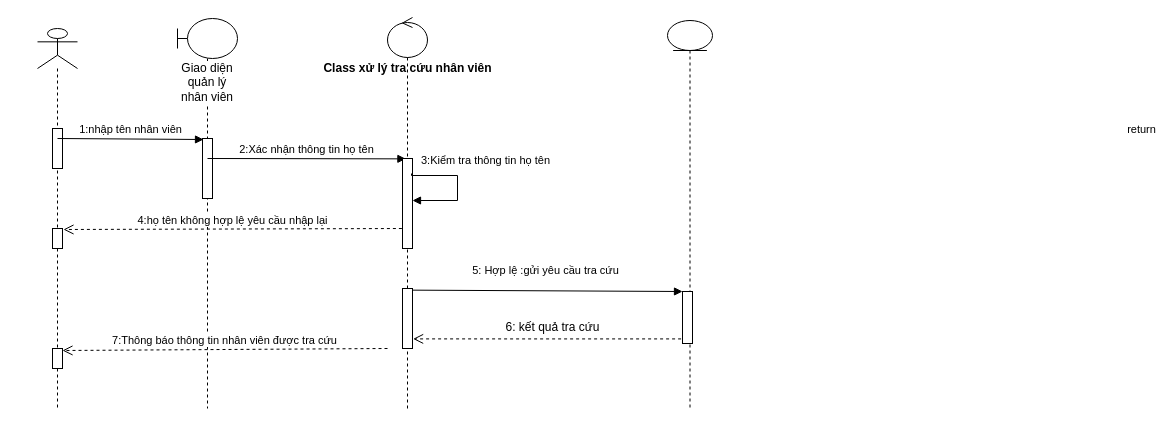
Image size: 1173x426. Some labels were removed from this diagram. The box of each missing label's shape, as (x1, y1, x2, y2) in pixels:
Quản trị: (36, 28, 78, 408)
Users: (666, 20, 712, 408)
